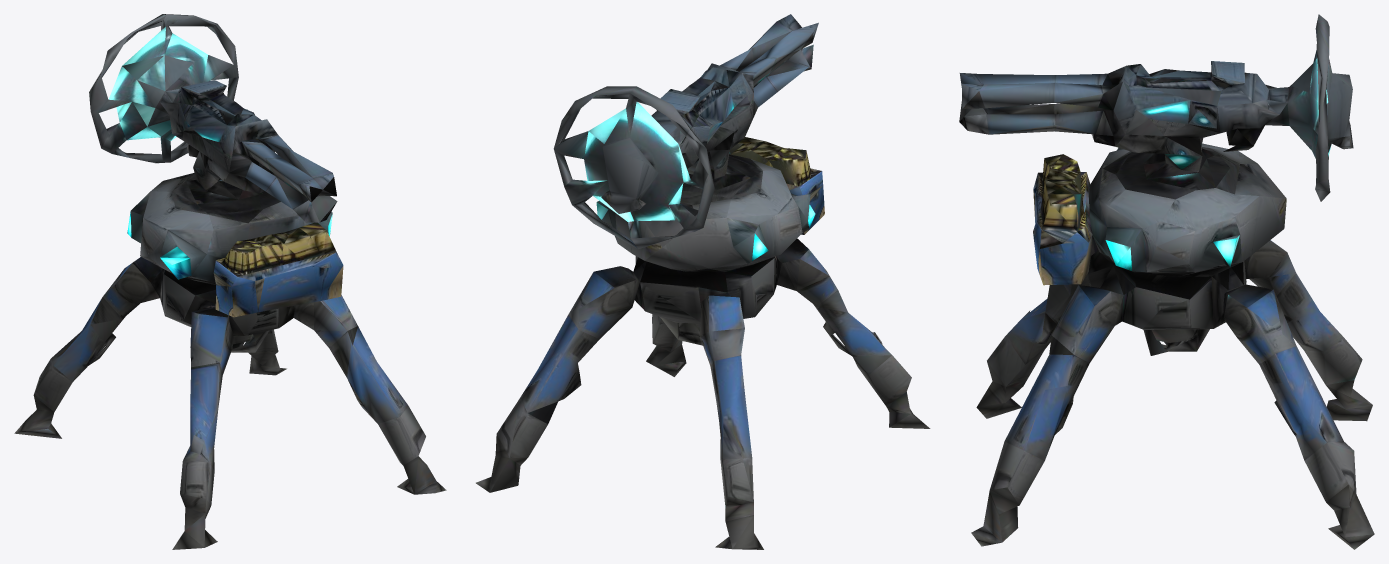
File: device_sentry.glb
3 renders of one model, left to right at view 1: azimuth 30°, elevation 25°; view 2: azimuth 150°, elevation 25°; view 3: azimuth 270°, elevation 25°, orthographic. The views are drawn at different scales.
Parts seen in each view (by area): view 1: device_sentry; view 2: device_sentry; view 3: device_sentry.
Boxes of the visible parts, x1,y1,x2,y2 form: device_sentry: (14,14,446,549); device_sentry: (476,14,930,549); device_sentry: (959,14,1374,549).
Bounding box in the file's own units: 0.7166 × 1 × 0.8307.
Materials: 1 (1 with a texture image).
